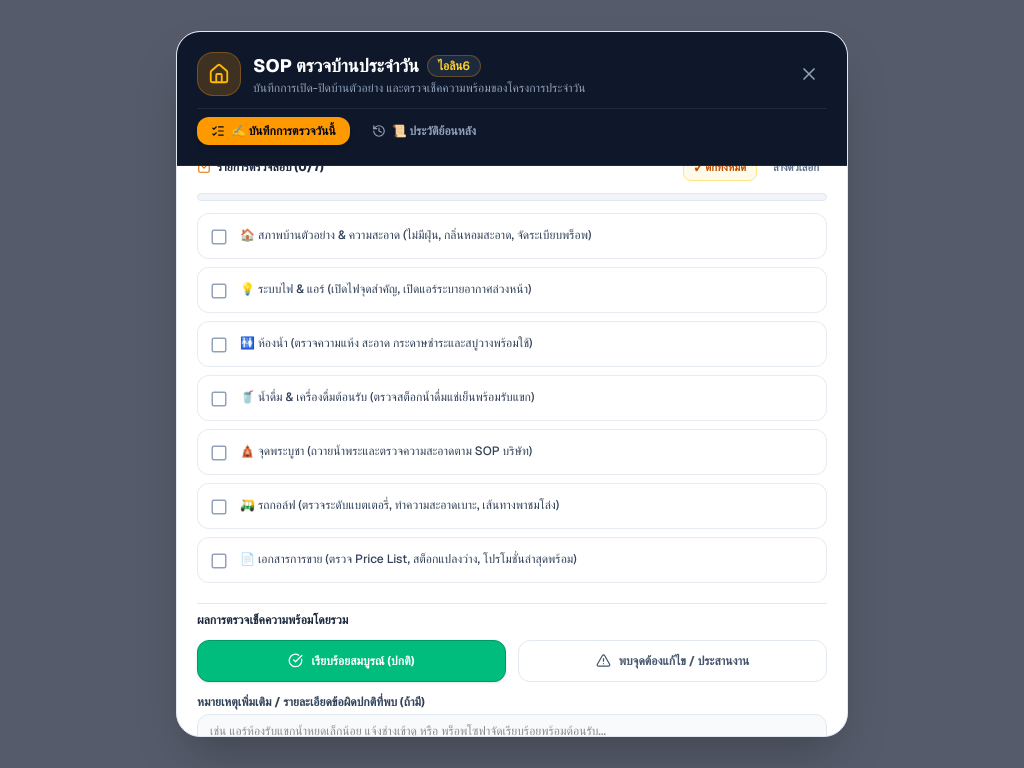
DailyHouseInspectionModal through SalesOverlay › exposes the actual checklist outside the clipped shell and preserves select/clear/mode buttons
(page scrolled)
Expected: the heading "SOP ตรวจบ้านประจำวัน ไอลิน6" is shown, top-left (253, 54), bottom-right (481, 77)
Expected: the text "รายการตรวจสอบ (0/7)" is shown, top-left (197, 166), bottom-right (324, 176)
Click the text "🛕 จุดพระบูชา (ถวายน้ำพระและตรวจความสะอาดตาม SOP บริษัท)".
click(386, 451)  # box top-left (240, 442), bottom-right (532, 461)
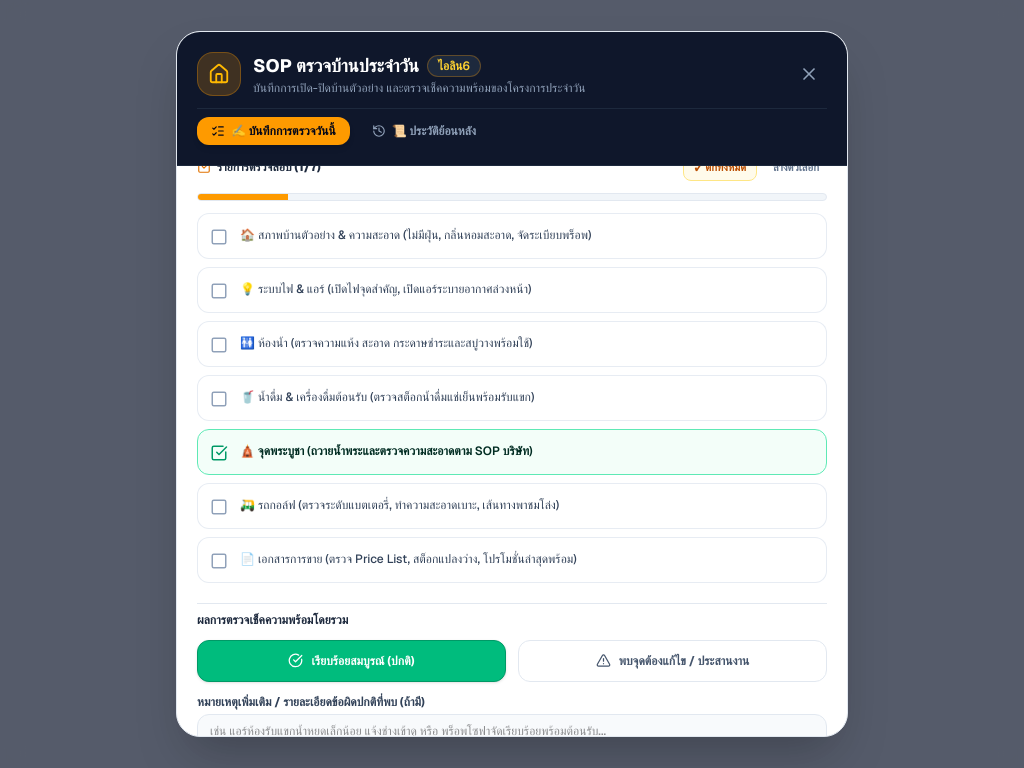
Result: the text "รายการตรวจสอบ (1/7)" is shown at top-left (197, 166), bottom-right (321, 176)
Click the text "🛕 จุดพระบูชา (ถวายน้ำพระและตรวจความสะอาดตาม SOP บริษัท)".
click(386, 451)  # box top-left (240, 442), bottom-right (533, 461)
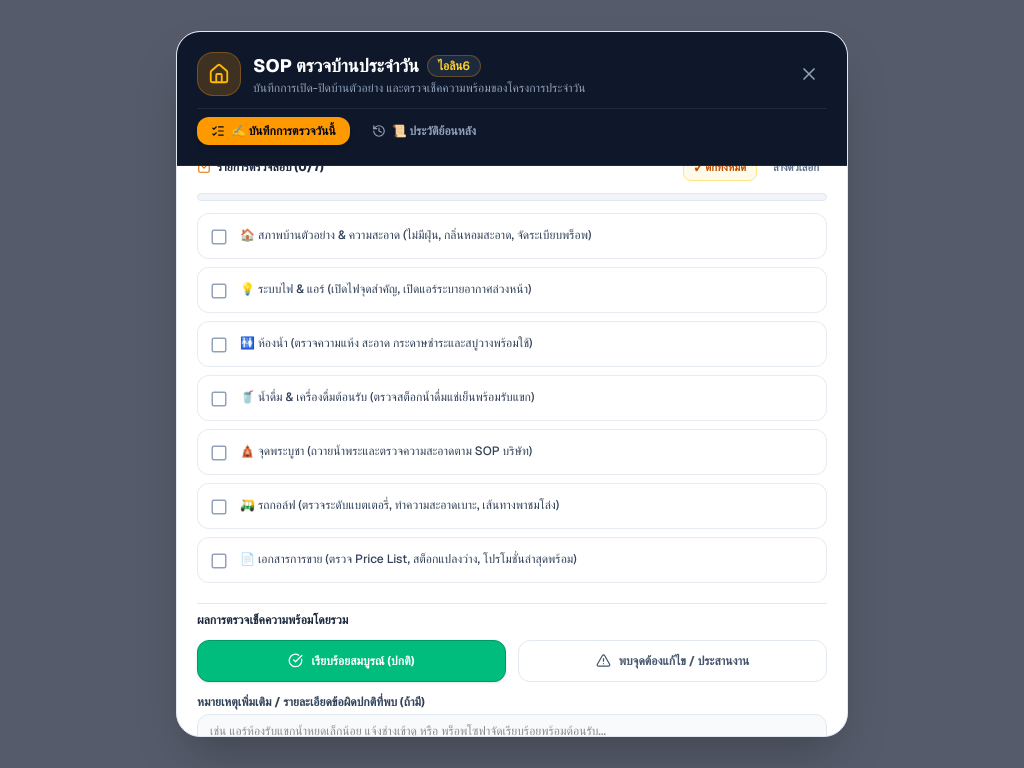
Result: the text "รายการตรวจสอบ (0/7)" is shown at top-left (197, 166), bottom-right (324, 176)
Click the button "✓ ติ๊กทั้งหมด".
click(720, 167)  # box top-left (683, 154), bottom-right (757, 181)
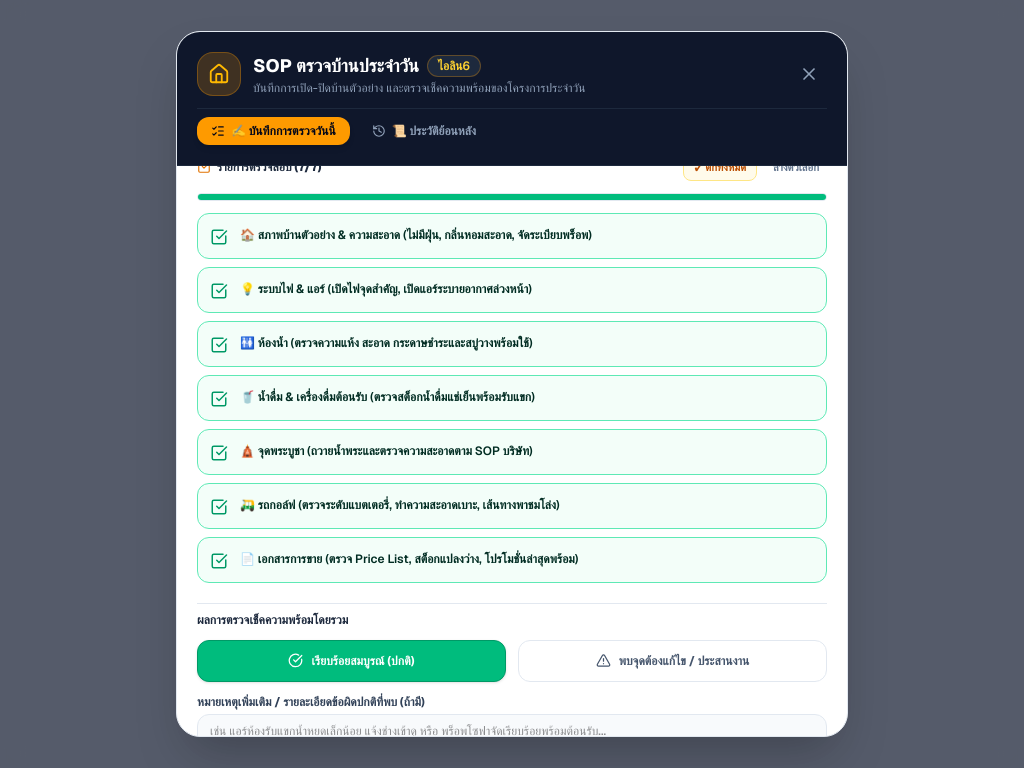
Result: the text "รายการตรวจสอบ (7/7)" is shown at top-left (197, 166), bottom-right (322, 176)
Click the button "ล้างตัวเลือก".
click(796, 167)  # box top-left (765, 155), bottom-right (827, 180)
(page scrolled)
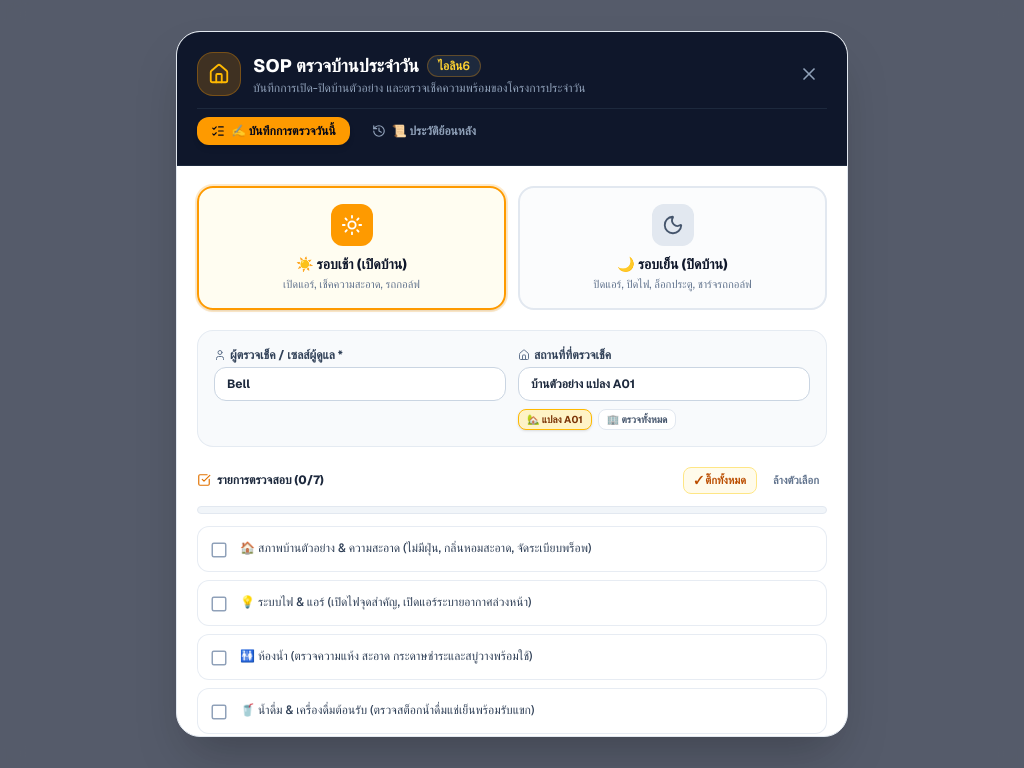
Result: the text "รายการตรวจสอบ (0/7)" is shown at top-left (197, 472), bottom-right (324, 488)
Click the button "🌙 รอบเย็น (ปิดบ้าน) ปิดแอร์, ปิดไฟ, ล็อกประตู, ชาร์จรถกอล์ฟ".
click(672, 248)  # box top-left (518, 186), bottom-right (827, 310)
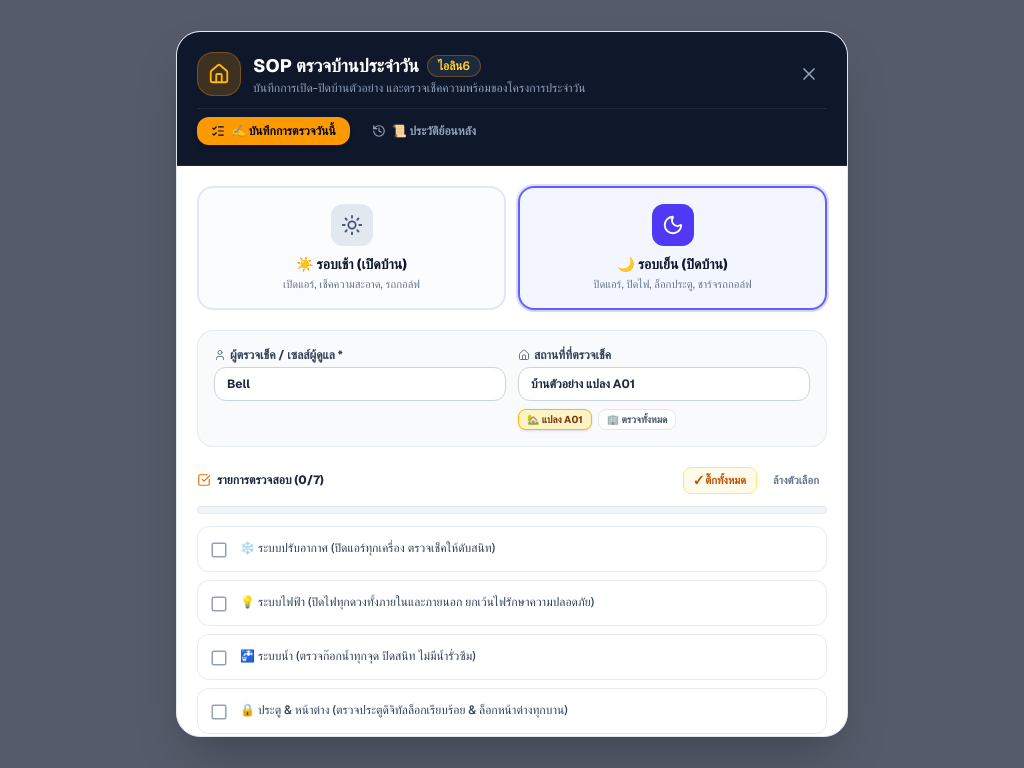
Expected: the text "ถวายน้ำพระ" is not shown
Result: the text "ประตูดิจิทัล" is shown at top-left (240, 702), bottom-right (568, 718)
Click the button "✓ ติ๊กทั้งหมด".
click(720, 480)  # box top-left (683, 467), bottom-right (757, 494)
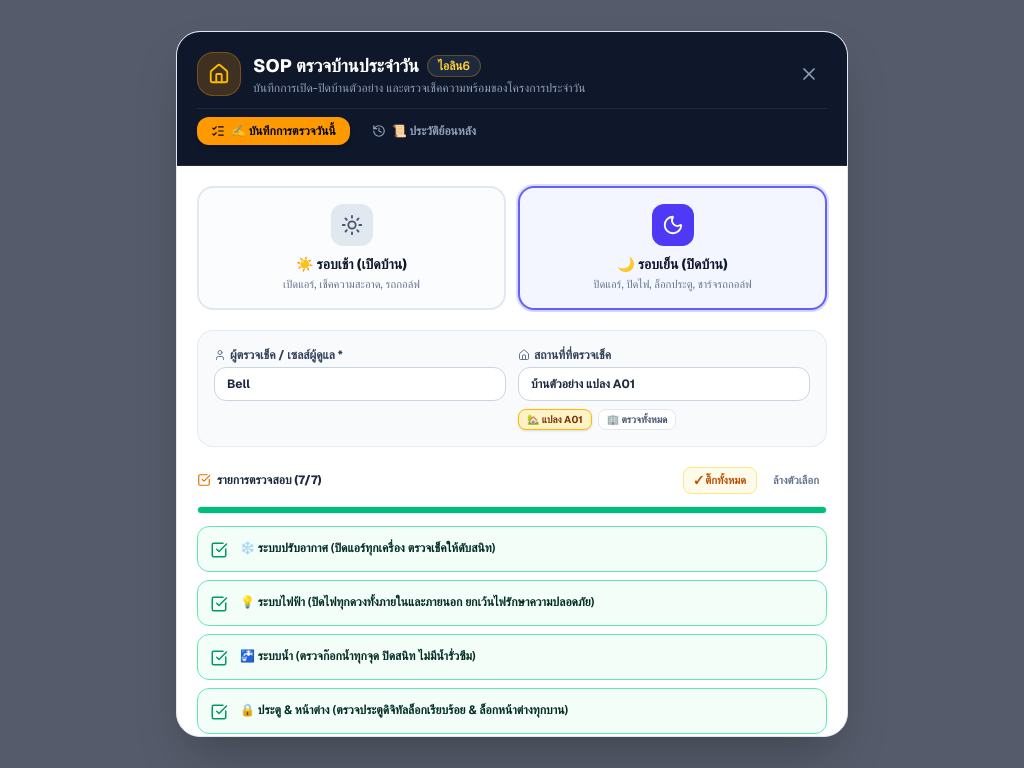
Result: the text "รายการตรวจสอบ (7/7)" is shown at top-left (197, 472), bottom-right (322, 488)
